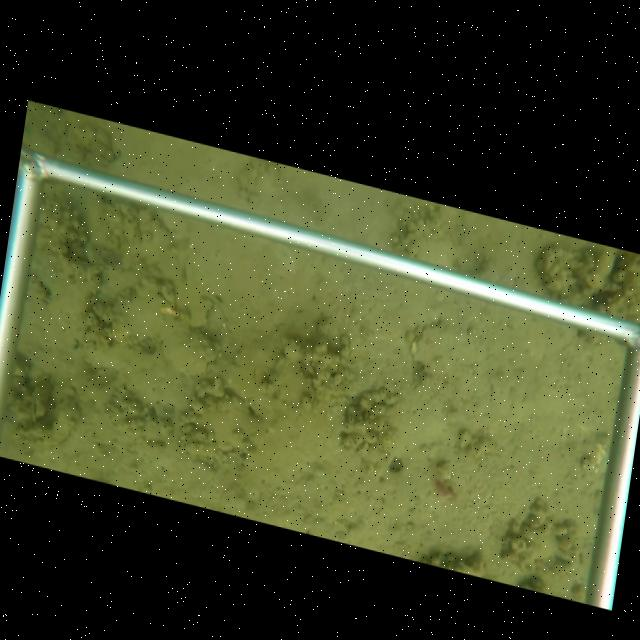Oyster-Closed: (32, 373, 52, 424)
Oyster-Indeterminate: (154, 304, 221, 379)
